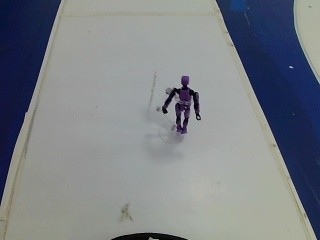pedestrian: (161, 76, 200, 138)
